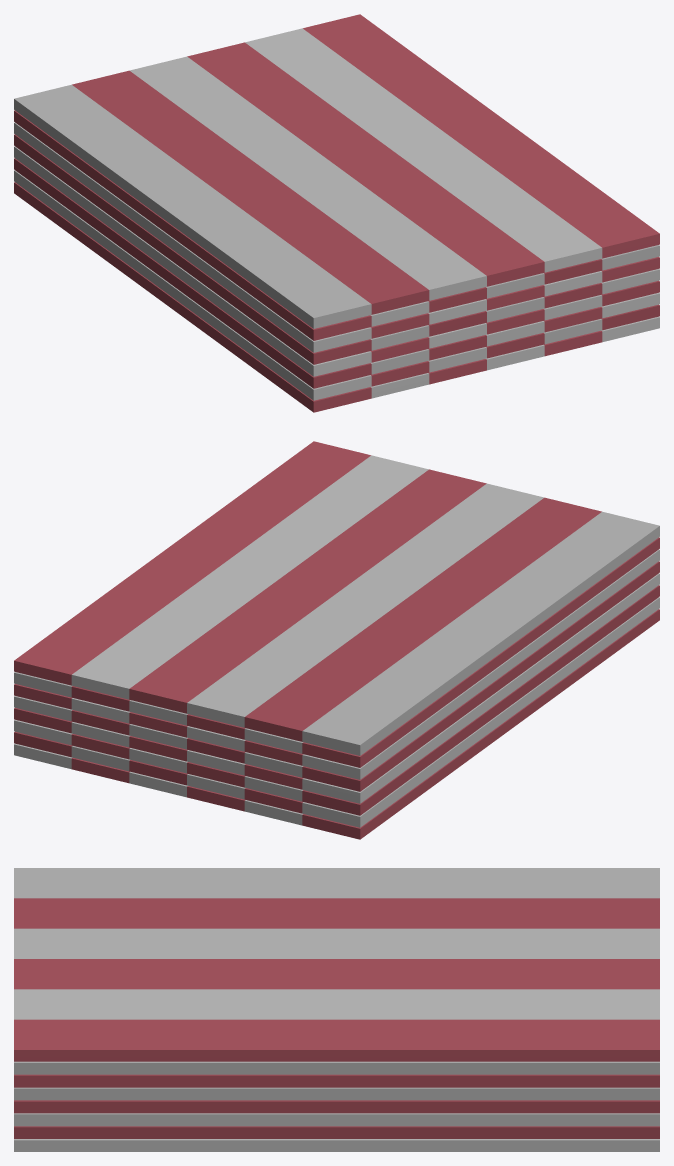
File: krama.glb
3 views of the same model, one above another, from view 1: azimuth 30°, elevation 25°; view 2: azimuth 150°, elevation 25°; view 3: azimuth 270°, elevation 25° (orthographic). The views are drawn at different scales.
Size of the model in its own units: 0.8 by 0.2088 by 1.2.
